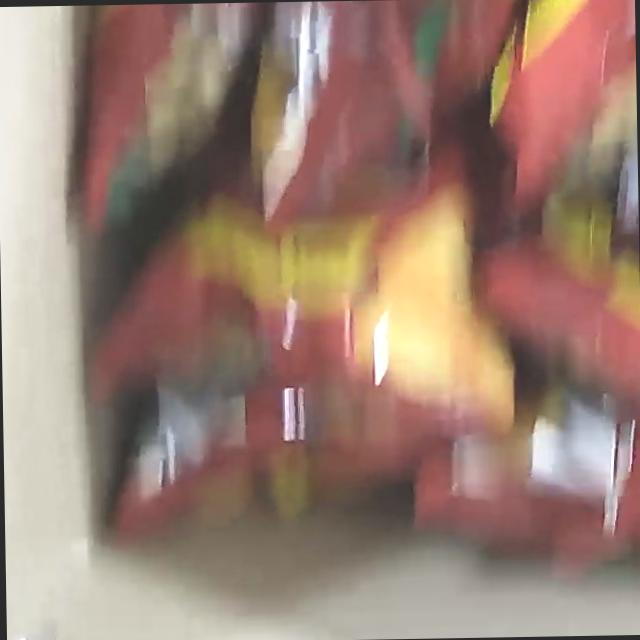masala: (65, 0, 640, 612)
